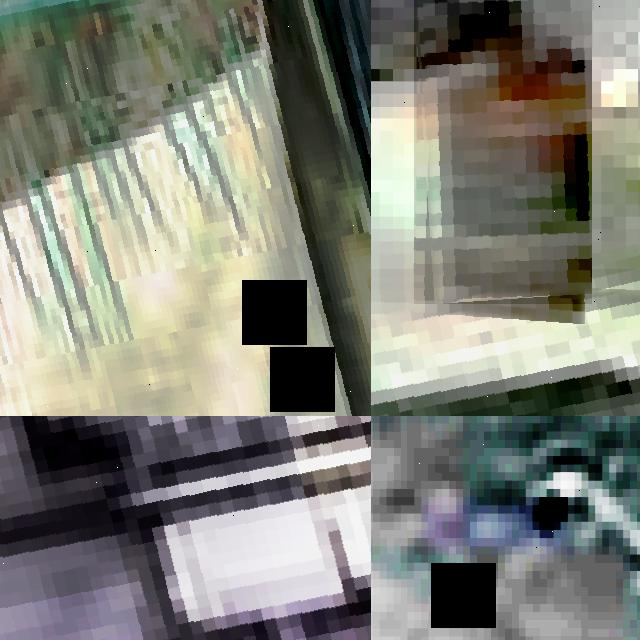arms: (0, 0, 371, 416), (0, 416, 371, 640), (414, 0, 591, 304), (371, 269, 640, 416), (601, 57, 640, 340)
